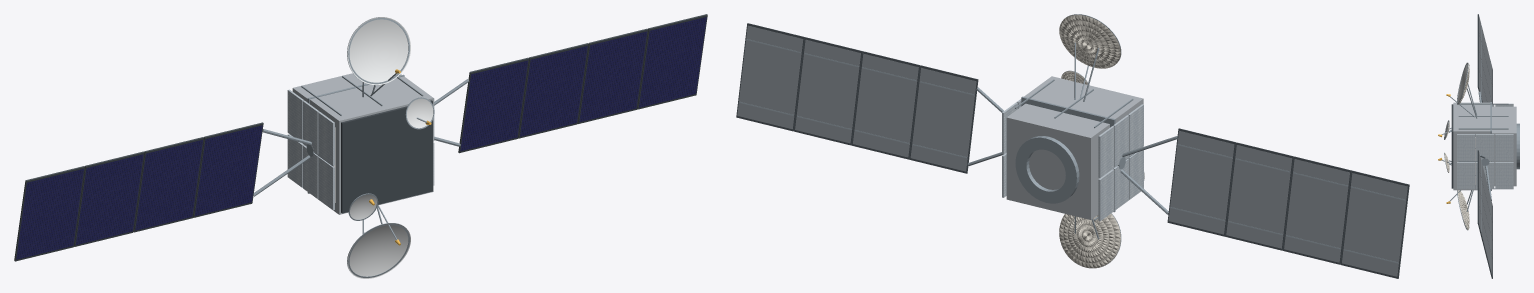
The model's file is ses-7.glb.
3 views of the same model, side by side, from view 1: azimuth 30°, elevation 25°; view 2: azimuth 150°, elevation 25°; view 3: azimuth 270°, elevation 25° (orthographic). The views are drawn at different scales.
Parts seen in each view (by area): view 1: Solar cell panel (×8), Earth-facing deck, Solar panel frame (×8), Radiator bay (×6), Payload module, Reflector 2 face, Reflector 1 face, Service module, Reflector 4 face, Reflector 2 edge, Reflector 3 face, Reflector 1 edge; view 2: Rear array substrate (×8), Service module, Solar panel frame (×8), Radiator bay (×6), Reflector 1 insulated back, Payload module, Reflector 2 insulated back, Launch adapter ring, Module interface; view 3: Radiator bay (×6), Rear array substrate (×8), Payload module, Service module, Reflector 1 insulated back, Earth-facing deck, Reflector 2 face, Blanket closeout seam (×2), Launch adapter ring, Solar panel frame, Reflector 2 edge, Reflector 2 insulated back (+2 smaller).
Boxes of the visible parts, x1,y1,x2,y2 form: Solar cell panel (×8): (16,17,706,259); Earth-facing deck: (341,100,432,213); Solar panel frame (×8): (14,14,707,261); Radiator bay (×6): (287,89,334,210); Payload module: (309,76,433,214); Reflector 2 face: (347,17,410,85); Reflector 1 face: (347,223,410,278); Service module: (292,73,366,102); Reflector 4 face: (407,98,433,128); Reflector 2 edge: (347,17,409,84); Reflector 3 face: (350,194,376,219); Reflector 1 edge: (347,223,409,277); Rear array substrate (×8): (737,25,1407,276); Service module: (1006,103,1109,219); Solar panel frame (×8): (736,23,1409,278); Radiator bay (×6): (1098,104,1143,221); Reflector 1 insulated back: (1059,213,1120,268); Payload module: (1024,76,1143,123); Reflector 2 insulated back: (1059,14,1120,68); Launch adapter ring: (1015,136,1079,203); Module interface: (1021,96,1115,212); Radiator bay (×6): (1457,134,1513,189); Rear array substrate (×8): (1479,16,1492,276); Payload module: (1453,102,1490,190); Service module: (1492,106,1516,186); Reflector 1 insulated back: (1457,190,1469,229); Earth-facing deck: (1451,104,1453,188); Reflector 2 face: (1457,62,1467,104); Blanket closeout seam (×2): (1458,103,1508,129); Launch adapter ring: (1516,123,1519,169); Solar panel frame: (1477,205,1492,278); Reflector 2 edge: (1457,63,1468,104); Reflector 2 insulated back: (1458,63,1469,104).
Bounding box in the file's own units: 25.98 × 9.47 × 4.31.
10 materials, 2 textured.
